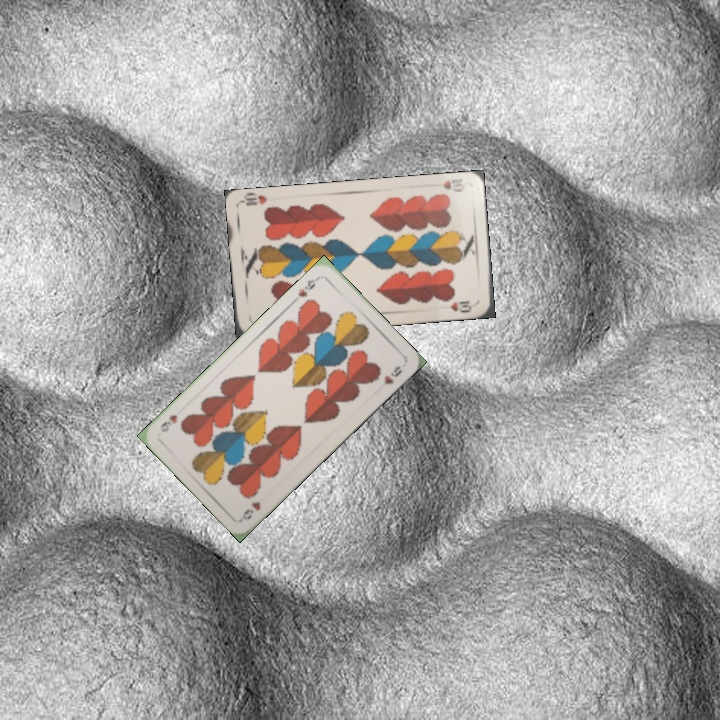H10: (439, 174, 467, 195)
H9: (238, 497, 263, 523), (294, 275, 318, 300)
